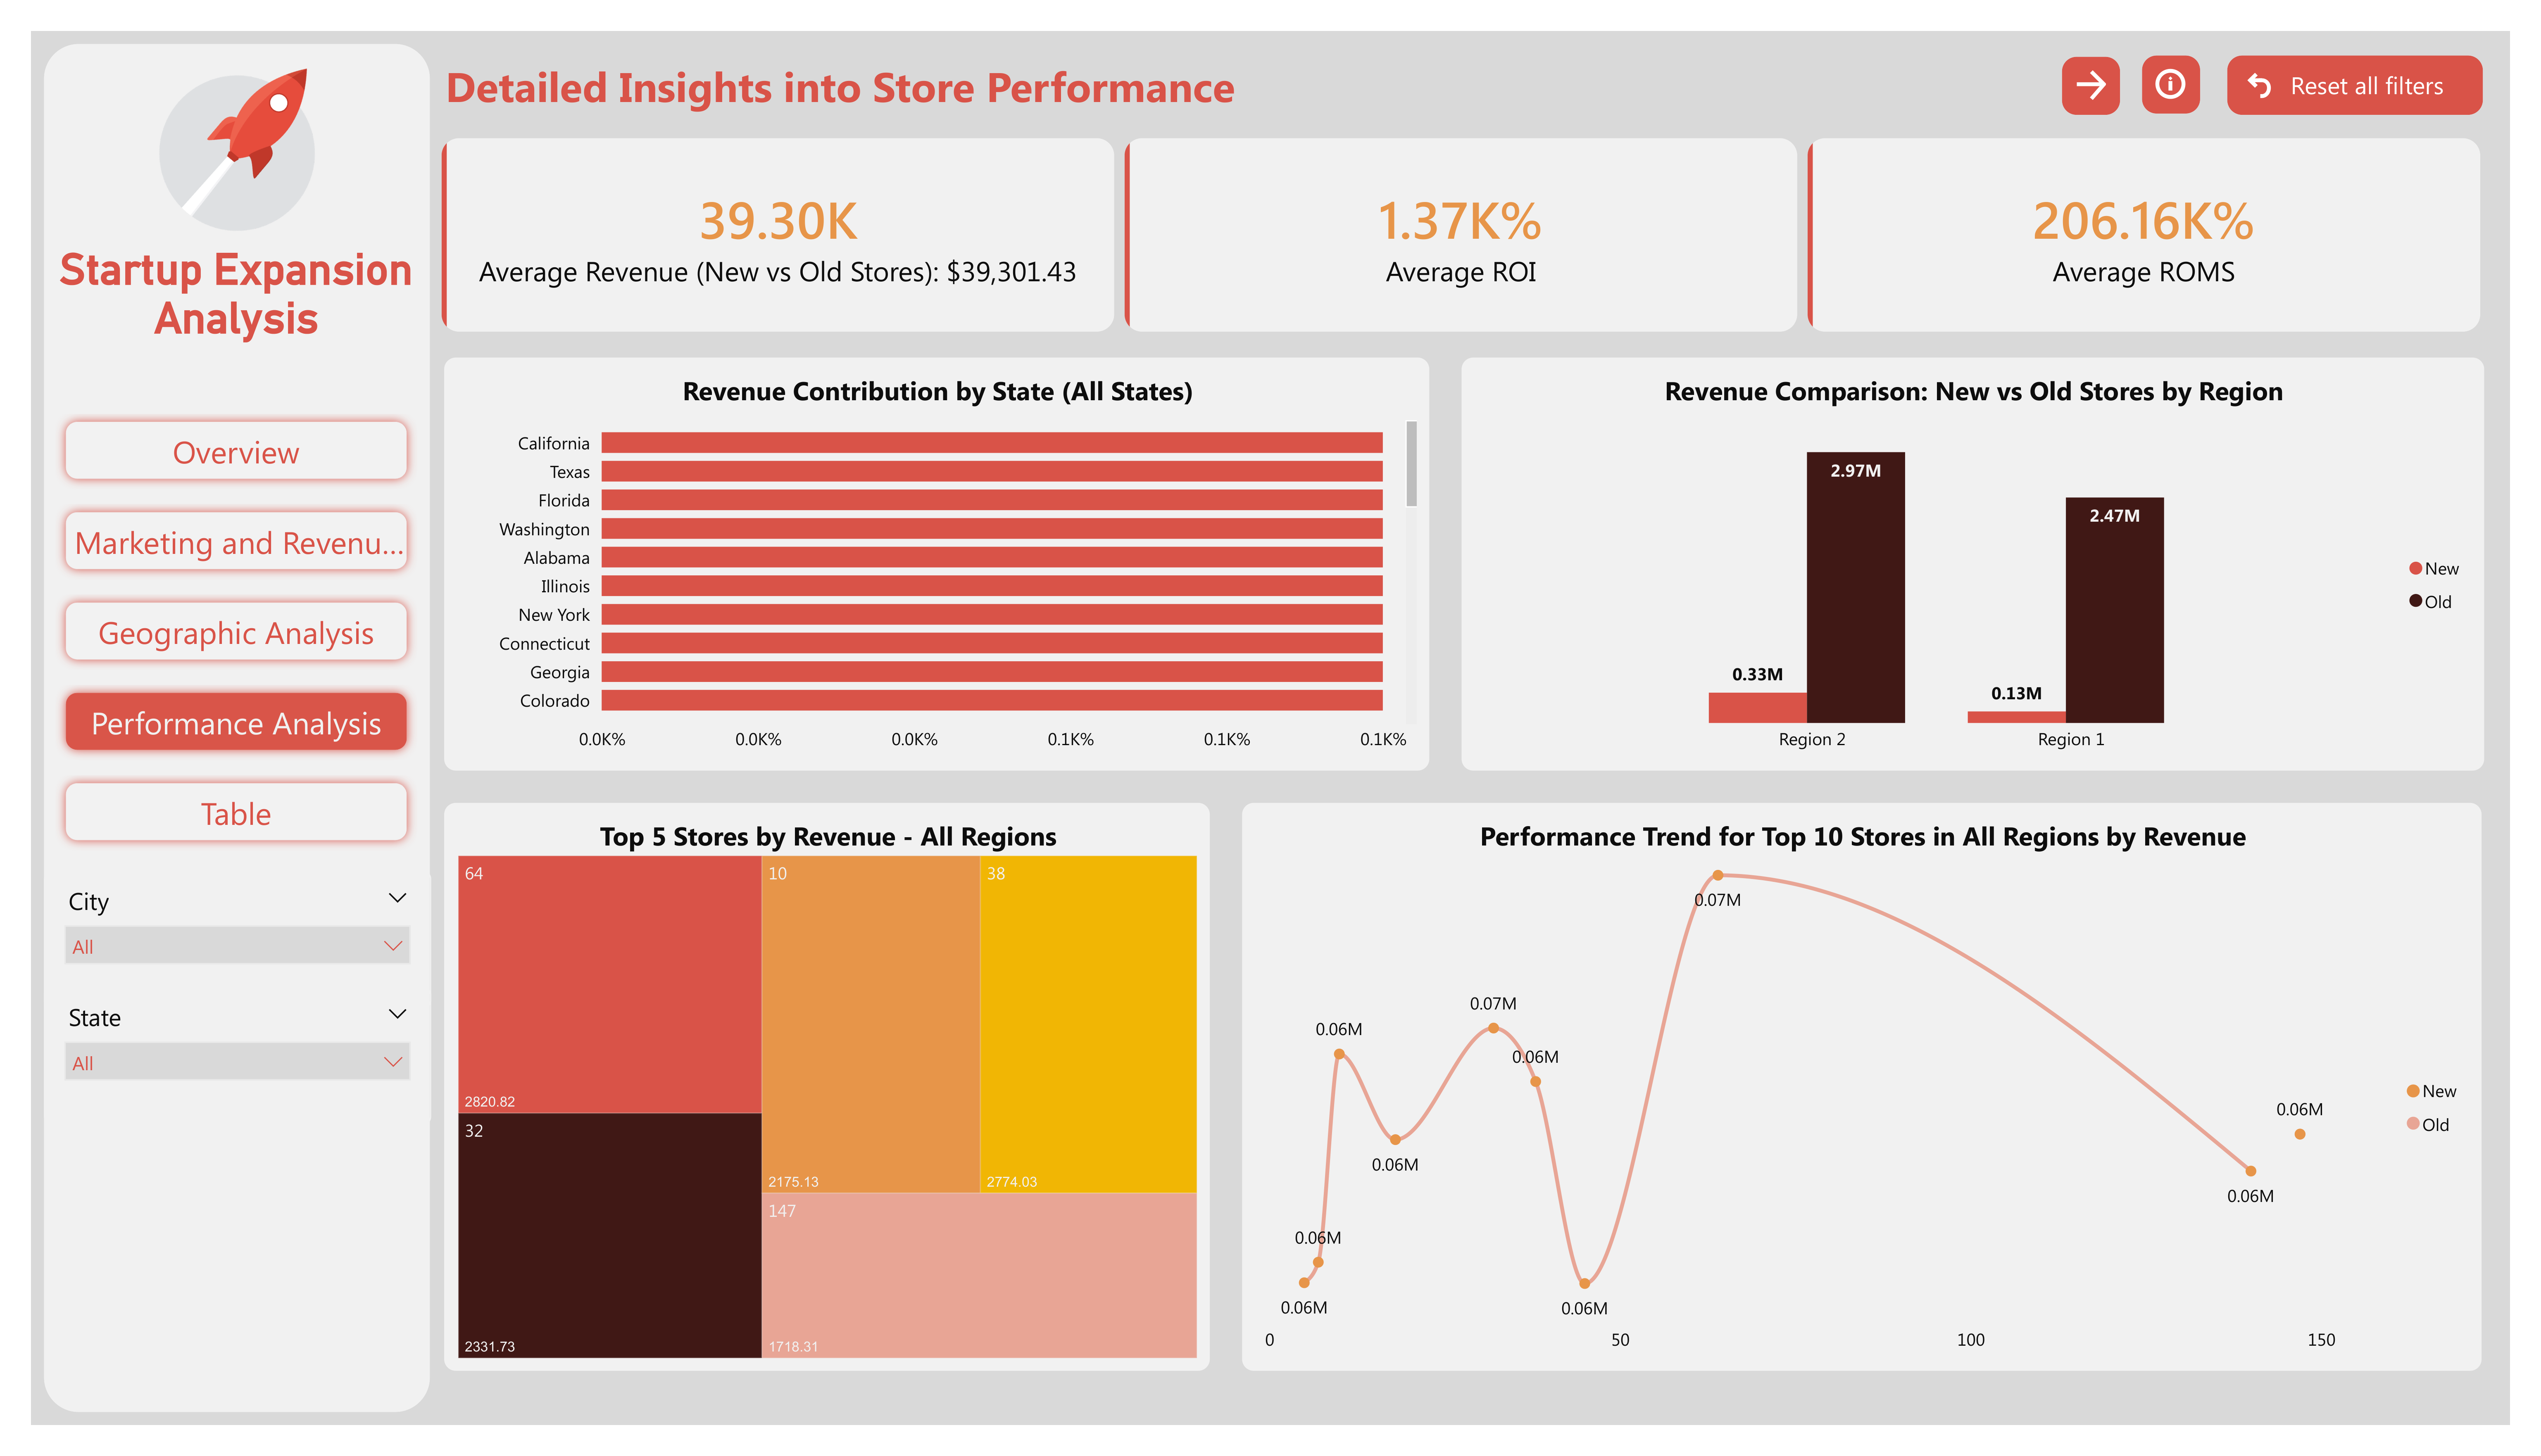

The page's visual inventory and layout, read from the dashboard file:
{"tool":"powerbi","page":{"name":"Performance Analysis","canvas":[1920,1080],"ordinal":3},"visuals":[{"type":"shape","box":[0,0,318.5,1079.6],"z":0},{"type":"image","box":[0,18.5,318.5,146.3],"z":1000},{"type":"actionButton","title":"reset button","box":[1701,19,198.1,46.3],"z":2000},{"type":"actionButton","title":"info button","box":[1635,19,45,45],"z":3000},{"type":"group","id":"g1","title":"Buttons Menu","box":[18.5,194.4,240,420.1],"z":4000},{"type":"pageNavigator","box":[9.3,285,300,364],"z":5000},{"type":"textbox","box":[9.3,164.8,300,87],"z":6000},{"type":"textbox","title":"Title","box":[320.9,19.7,618.1,65.2],"z":7000},{"type":"cardVisual","fields":{"Data":["All measures.Average Revenue by Expansion","All measures.ROI","Sum(startups-expansion-modified.ROMS%)"]},"box":[318,83,1579,150],"z":8000},{"type":"clusteredColumnChart","fields":{"Category":["startups-expansion-modified.Sales Region"],"Series":["startups-expansion-modified.New Expansion"],"Y":["All measures.Revenue by Expansion"]},"box":[1107.5,252.5,792.5,320],"z":9000},{"type":"lineChart","fields":{"Category":["startups-expansion-modified.Store ID"],"Series":["startups-expansion-modified.New Expansion"],"Y":["All measures.Revenue by Expansion"]},"box":[937.5,597.5,960,440],"z":10000},{"type":"treemap","fields":{"Values":["Sum(startups-expansion-modified.Revenue)"],"Details":["startups-expansion-modified.ROI"],"Group":["startups-expansion-modified.Store ID"]},"box":[320,597.5,592.5,440],"z":11000},{"type":"actionButton","title":"info button","box":[1572.5,20,45,45],"z":12000},{"type":"slicer","fields":{"Values":["Sales.City"]},"box":[10,650,300,107.5],"z":13000},{"type":"slicer","fields":{"Values":["Sales.State"]},"box":[10,740,300,107.5],"z":14000},{"type":"hundredPercentStackedBarChart","fields":{"Y":["All measures.Revenue Percentage"],"Category":["startups-expansion-modified.State"]},"box":[320,252.5,762.5,320],"z":15000}]}

Visuals, with their boxes on the page's 1920x1080 design canvas (x1, y1, x2, y2). These are canvas units, not pixel positions in the 2541x1456 screenshot, which may show the page scaled, cropped or inside an application window:
shape: pyautogui.locateOnScreen(0, 0, 318, 1080)
image: pyautogui.locateOnScreen(0, 18, 318, 165)
"reset button" actionButton: pyautogui.locateOnScreen(1701, 19, 1899, 65)
"info button" actionButton: pyautogui.locateOnScreen(1635, 19, 1680, 64)
"Buttons Menu" group: pyautogui.locateOnScreen(18, 194, 258, 614)
pageNavigator: pyautogui.locateOnScreen(9, 285, 309, 649)
textbox: pyautogui.locateOnScreen(9, 165, 309, 252)
"Title" textbox: pyautogui.locateOnScreen(321, 20, 939, 85)
cardVisual - All measures.Average Revenue by Expansion x All measures.ROI: pyautogui.locateOnScreen(318, 83, 1897, 233)
clusteredColumnChart - startups-expansion-modified.Sales Region x startups-expansion-modified.New Expansion: pyautogui.locateOnScreen(1108, 252, 1900, 572)
lineChart - startups-expansion-modified.Store ID x startups-expansion-modified.New Expansion: pyautogui.locateOnScreen(938, 598, 1898, 1038)
treemap - Sum(startups-expansion-modified.Revenue) x startups-expansion-modified.ROI: pyautogui.locateOnScreen(320, 598, 912, 1038)
"info button" actionButton: pyautogui.locateOnScreen(1572, 20, 1618, 65)
slicer - Sales.City: pyautogui.locateOnScreen(10, 650, 310, 758)
slicer - Sales.State: pyautogui.locateOnScreen(10, 740, 310, 848)
hundredPercentStackedBarChart - All measures.Revenue Percentage x startups-expansion-modified.State: pyautogui.locateOnScreen(320, 252, 1082, 572)
